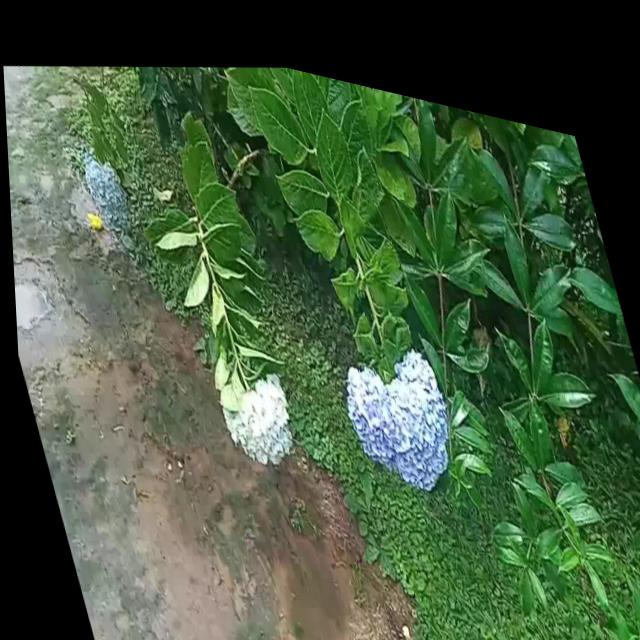Flower: (326, 316, 471, 499), (208, 352, 305, 477), (78, 139, 133, 236)
